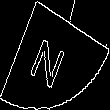N_NE: (33, 23, 77, 87)
